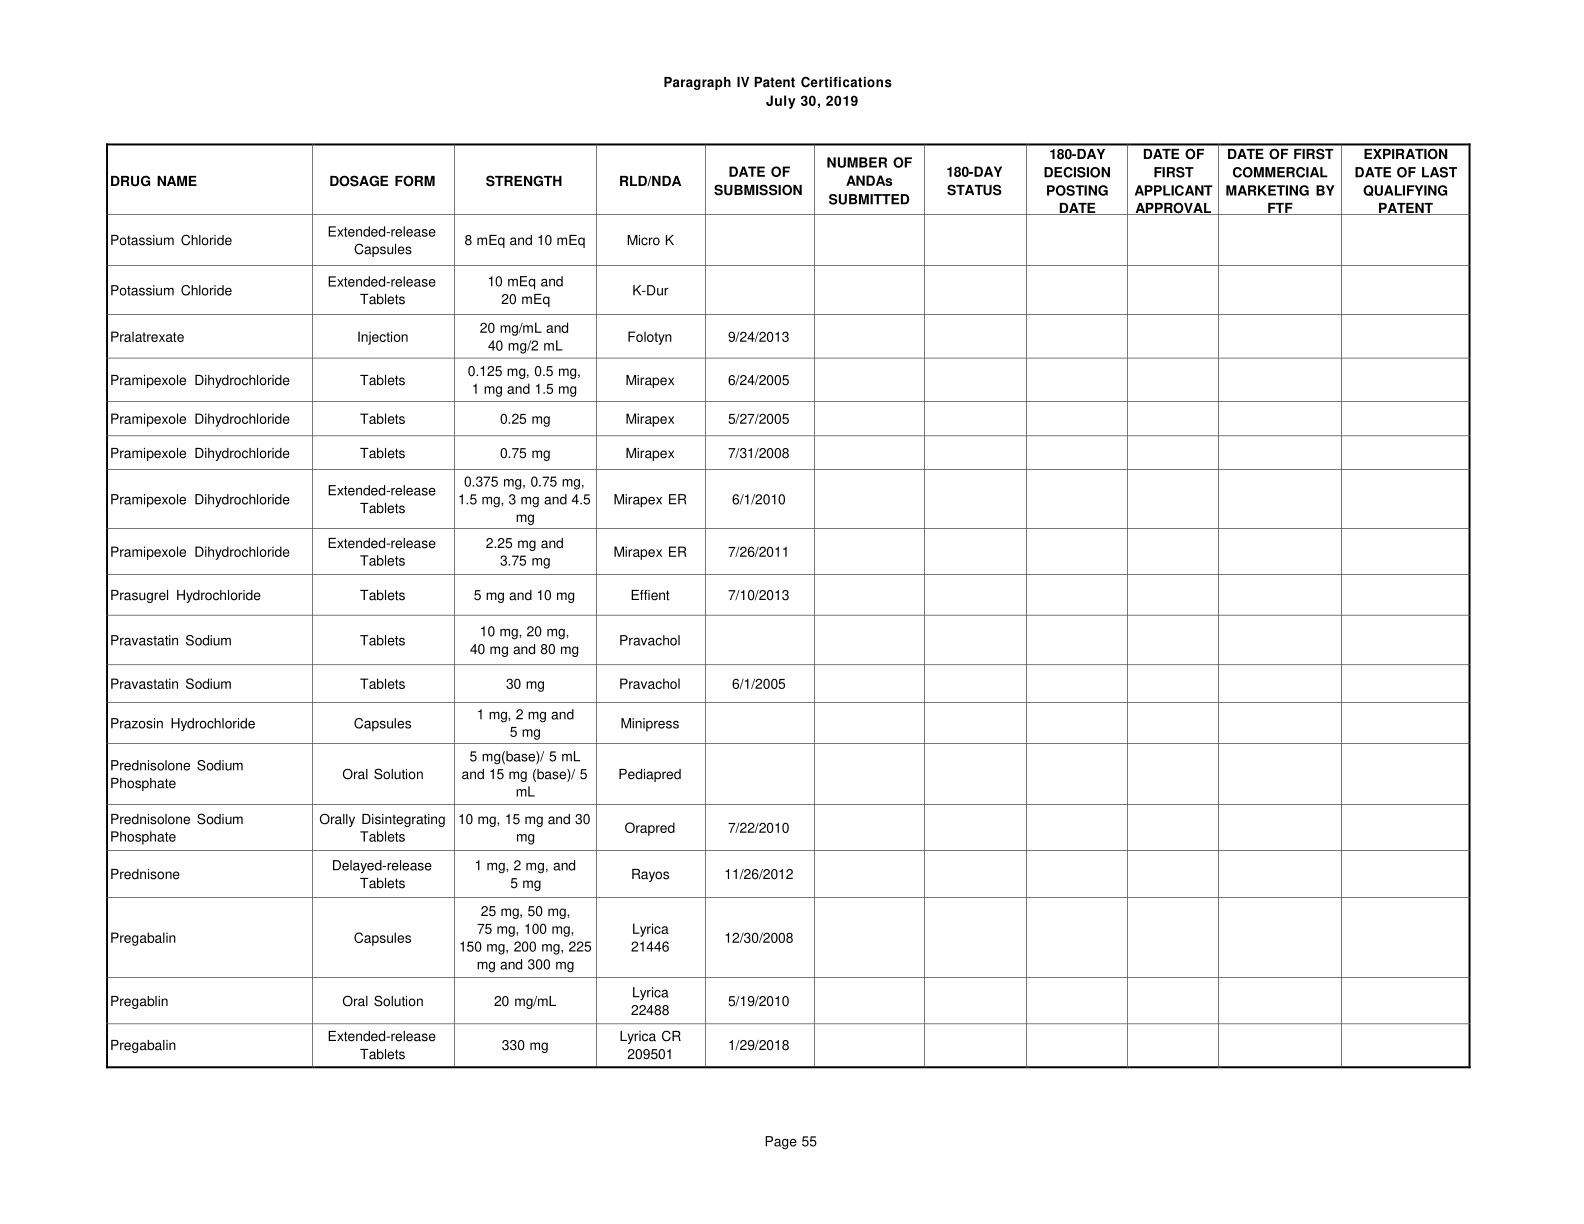full_lined: (105, 143, 1471, 1068)
